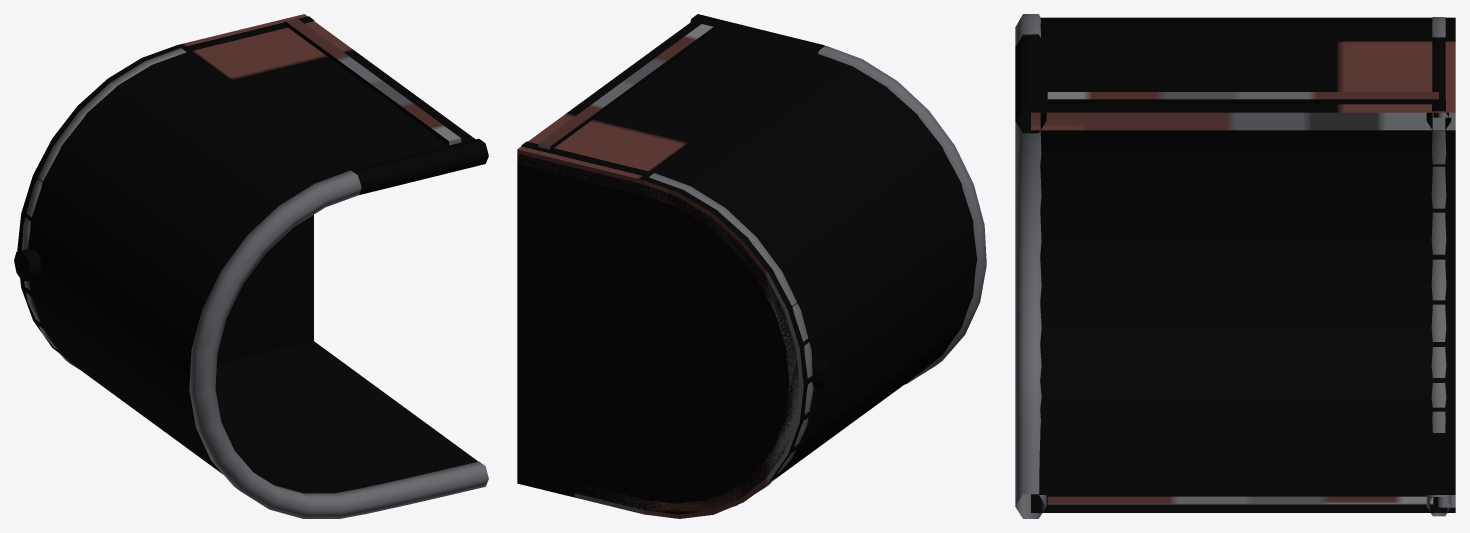
File: section-0.obj
3 views of the same model, side by side, from view 1: azimuth 30°, elevation 25°; view 2: azimuth 150°, elevation 25°; view 3: azimuth 270°, elevation 25° (orthographic). The views are drawn at different scales.
Bounding box in the file's own units: 0.737 × 0.8121 × 0.788.
